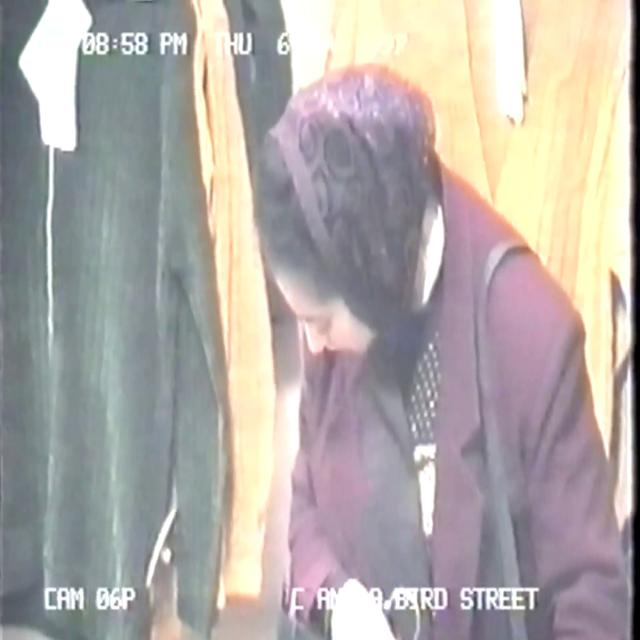normal: (178, 0, 636, 640)
